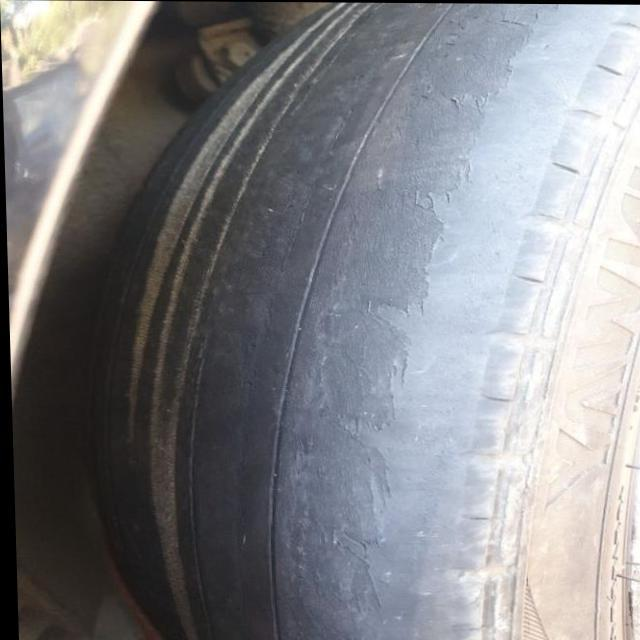Flat spots: (82, 4, 459, 639)
